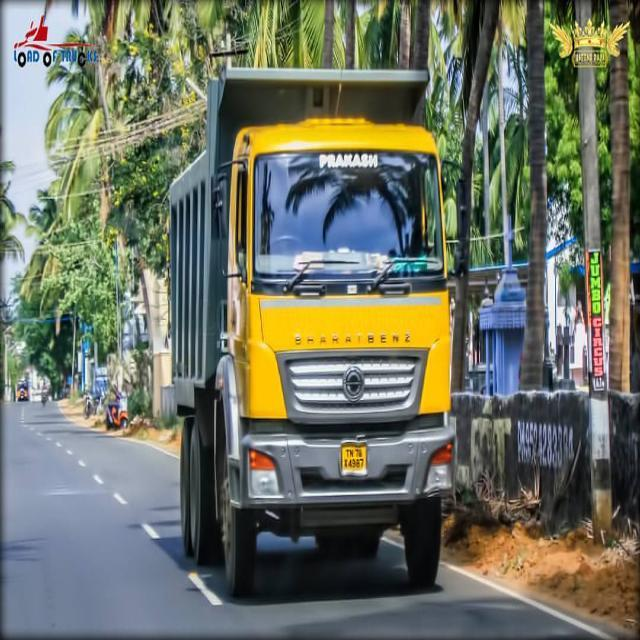Truck: (168, 61, 468, 600)
